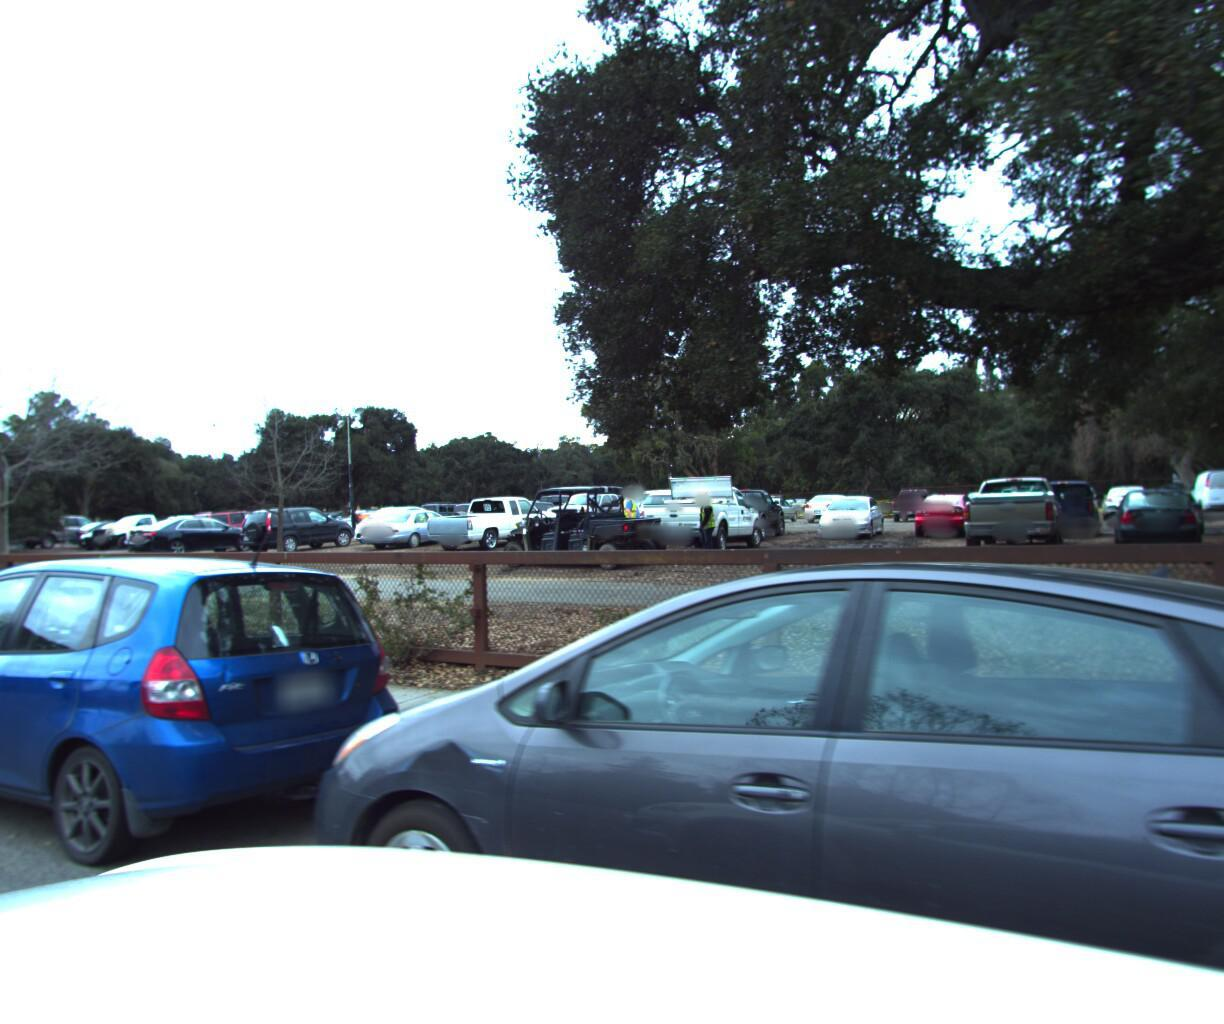car: (230, 505, 1224, 1024), (0, 527, 436, 921)
